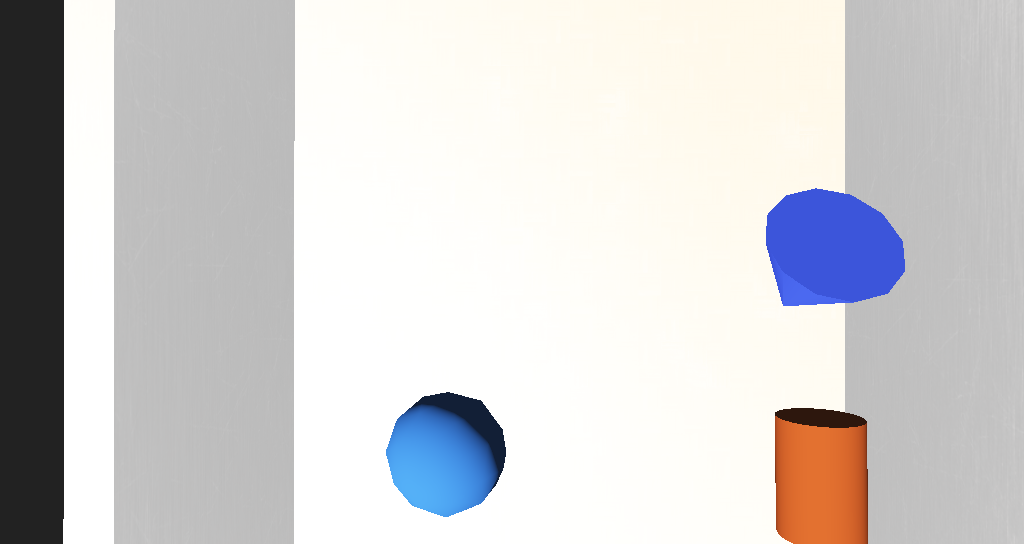cone: (613, 322, 667, 375)
cylinder: (586, 241, 667, 303)
sphere: (404, 310, 472, 358)
